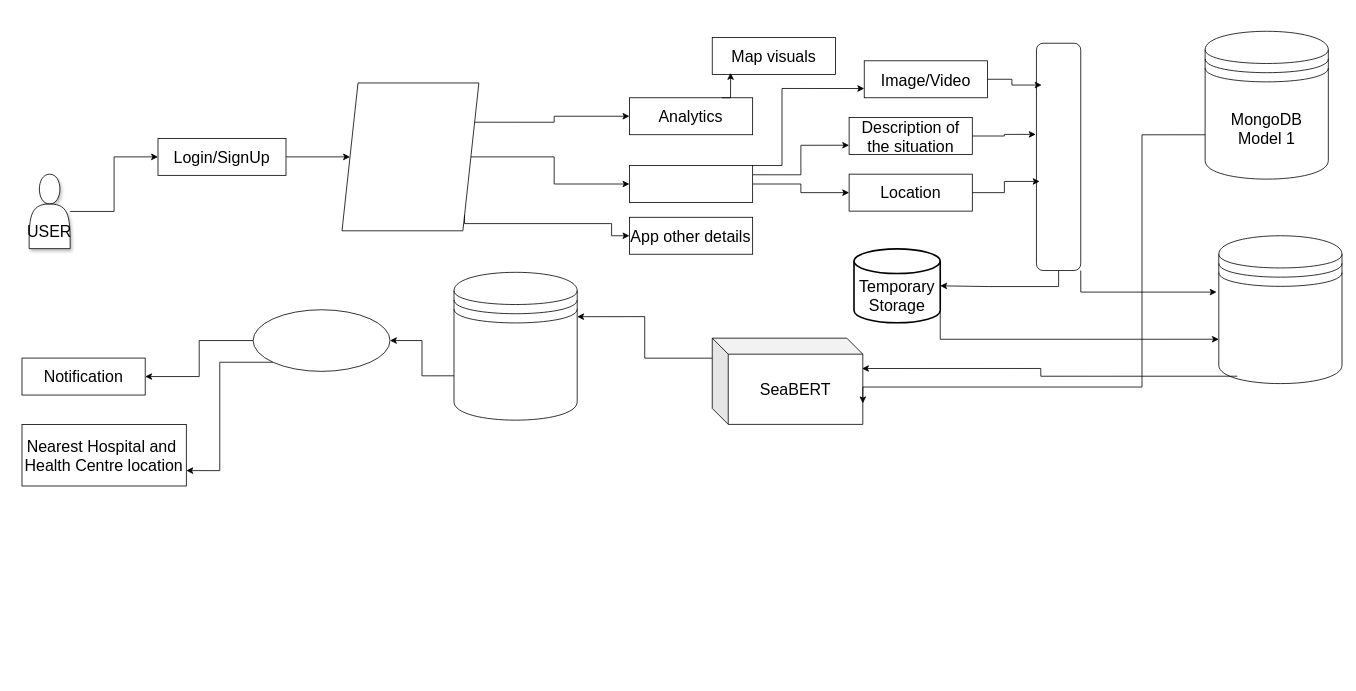
This 1356x691 diagram has some shape labels left out. The centre of each missing label's shape, as x and y in pixels:
"Alert Engine" goes at pixel 321 340.
"MongoDB Model 2" goes at pixel 1280 309.
"MongoDB Model 3" goes at pixel 515 346.
"Network Condition Block" goes at pixel 1058 156.
"Upload" goes at pixel 691 183.
"USER DASHBOARD" goes at pixel 410 156.
